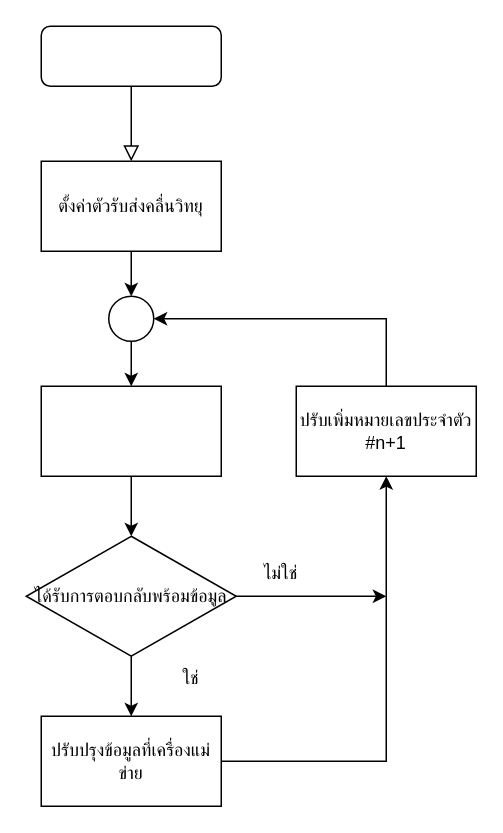
The diagram is 503 pixels wide and 833 high, and some of its shapes have lost their labels. The centre of each missing label's shape, as x and y in pixels:
"สุ่มข้อมูลจากเครื่องลูกข่าย ด้วยหมายเลขประจำตัว #n" goes at (130,430).
"เริ่มต้น" goes at (130,55).
